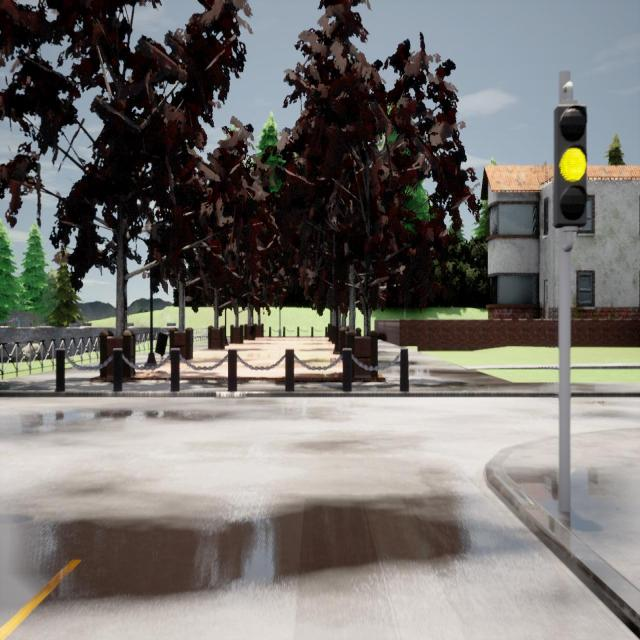traffic_light: (554, 106, 590, 228)
